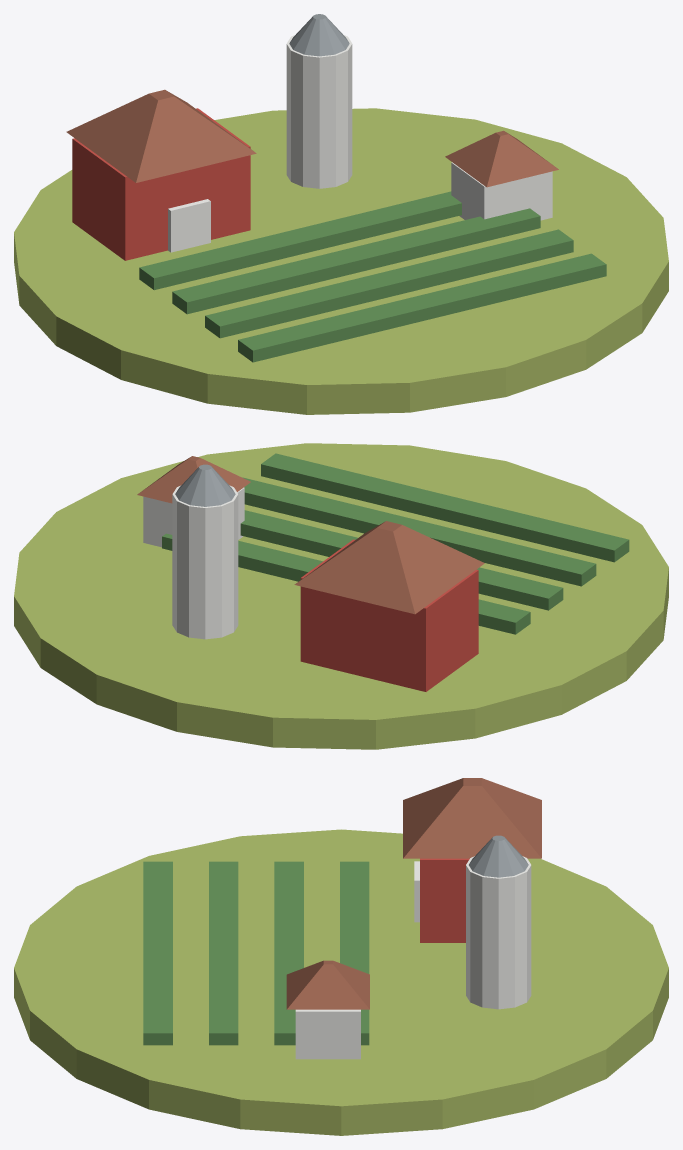
The model's file is farm.glb.
3 views of the same model, one above another, from view 1: azimuth 30°, elevation 25°; view 2: azimuth 150°, elevation 25°; view 3: azimuth 270°, elevation 25° (orthographic).
Parts seen in each view (by area): view 1: farm_base, farm_barn, farm_row_0, farm_row_1, farm_barn_roof, farm_row_2, farm_silo, farm_row_3, farm_house, farm_house_roof, farm_barn_door, farm_silo_top; view 2: farm_base, farm_barn, farm_row_0, farm_barn_roof, farm_silo, farm_row_1, farm_row_2, farm_row_3, farm_silo_top, farm_house_roof, farm_house; view 3: farm_base, farm_barn_roof, farm_silo, farm_row_0, farm_row_1, farm_row_2, farm_barn, farm_house_roof, farm_row_3, farm_house, farm_silo_top.
Part boxes in pixels (<box>): farm_base: <box>14,108,668,414</box>; farm_barn: <box>72,108,250,260</box>; farm_row_0: <box>238,253,606,362</box>; farm_row_1: <box>205,229,573,338</box>; farm_barn_roof: <box>66,89,256,182</box>; farm_row_2: <box>172,208,540,314</box>; farm_silo: <box>286,35,352,188</box>; farm_row_3: <box>139,191,461,290</box>; farm_house: <box>451,162,552,220</box>; farm_house_roof: <box>445,130,558,187</box>; farm_barn_door: <box>168,199,210,252</box>; farm_silo_top: <box>289,14,349,56</box>; farm_base: <box>14,443,668,749</box>; farm_barn: <box>300,539,478,691</box>; farm_row_0: <box>261,453,629,562</box>; farm_barn_roof: <box>294,521,484,614</box>; farm_silo: <box>172,485,238,639</box>; farm_row_1: <box>242,477,596,586</box>; farm_row_2: <box>240,510,563,610</box>; farm_row_3: <box>162,533,530,634</box>; farm_silo_top: <box>175,464,235,506</box>; farm_house_roof: <box>137,456,250,503</box>; farm_house: <box>143,487,244,547</box>; farm_base: <box>14,829,668,1135</box>; farm_barn_roof: <box>403,778,541,858</box>; farm_silo: <box>466,856,531,1009</box>; farm_row_0: <box>143,861,172,1045</box>; farm_row_1: <box>209,861,238,1045</box>; farm_row_2: <box>274,861,303,1045</box>; farm_barn: <box>420,858,469,942</box>; farm_house_roof: <box>286,960,369,1009</box>; farm_row_3: <box>340,861,369,1045</box>; farm_house: <box>295,1009,360,1059</box>; farm_silo_top: <box>469,835,528,877</box>.
Size of the model in its own units: 1 by 0.315 by 1.
